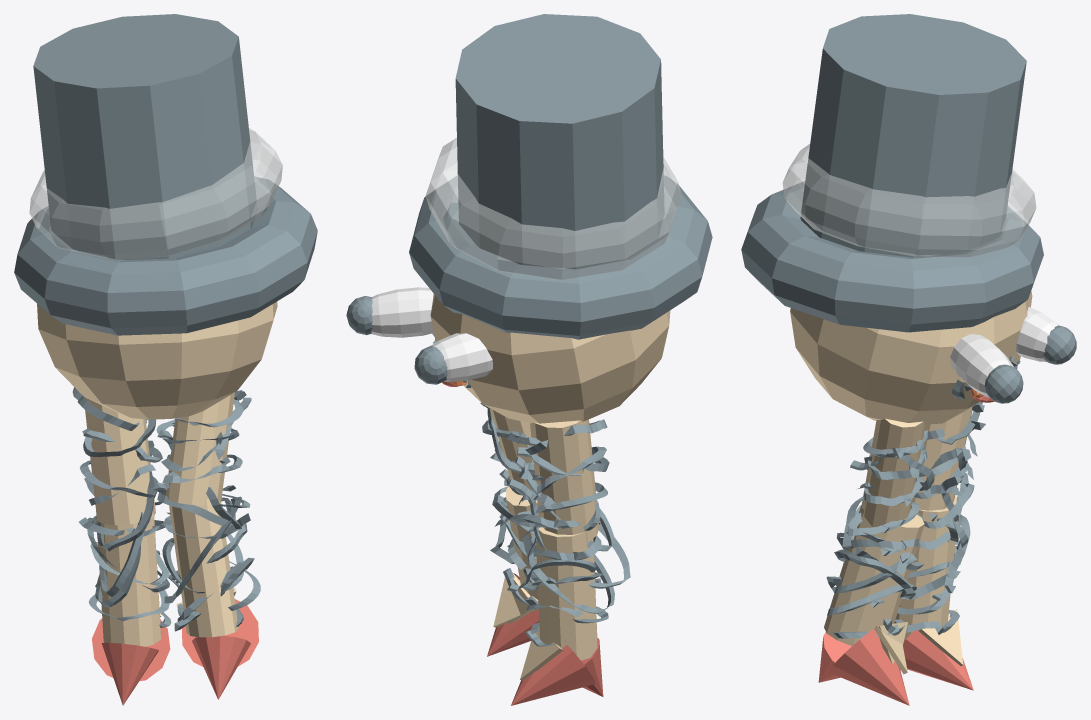
3 renders of one model, left to right at view 1: azimuth 30°, elevation 25°; view 2: azimuth 150°, elevation 25°; view 3: azimuth 270°, elevation 25°, orthographic.
Visible parts, largest first — view 1: group1615865381, group876499831, group1073953164, group534798460, group1897150102, group1571126825, group666944542, group1006952845, group1467747371, group991239869, group219298290, group1679140607 (+16 smaller); view 2: group1615865381, group876499831, group1073953164, group534798460, group666944542, group1571126825, group75353913, group219298290, group1379904751, group1006952845, group1421085037, group1679140607 (+15 smaller); view 3: group1615865381, group876499831, group1073953164, group534798460, group1897150102, group1006952845, group1679140607, group666944542, group75353913, group219298290, group1571126825, group1379904751 (+15 smaller).
Boxes of the visible parts, x1,y1,x2,y2 form: group1615865381: (33, 14, 256, 259); group876499831: (14, 177, 317, 335); group1073953164: (37, 301, 277, 419); group534798460: (29, 128, 282, 259); group1897150102: (169, 498, 238, 637); group1571126825: (84, 397, 155, 525); group666944542: (96, 511, 160, 646); group1006952845: (165, 392, 234, 505); group1467747371: (192, 635, 250, 699); group991239869: (101, 642, 158, 705); group219298290: (92, 618, 170, 681); group1679140607: (182, 599, 258, 666); group1615865381: (455, 14, 664, 269); group876499831: (409, 175, 712, 339); group1073953164: (430, 294, 670, 423); group534798460: (425, 138, 681, 280); group666944542: (536, 527, 597, 660); group1571126825: (530, 419, 599, 542); group75353913: (371, 287, 433, 337); group219298290: (511, 645, 595, 705); group1379904751: (431, 333, 492, 382); group1006952845: (489, 409, 535, 490); group1421085037: (522, 527, 614, 613); group1679140607: (487, 573, 539, 656); group1615865381: (800, 14, 1026, 256); group876499831: (741, 181, 1043, 332); group1073953164: (790, 290, 1032, 424); group534798460: (782, 144, 1036, 257); group1897150102: (824, 505, 924, 645); group1006952845: (861, 418, 925, 527); group1679140607: (828, 625, 909, 705); group666944542: (895, 496, 957, 640); group75353913: (950, 334, 1013, 397); group219298290: (903, 629, 973, 690); group1571126825: (912, 407, 972, 510); group1379904751: (1016, 307, 1058, 361).
Bounding box in the file's own units: 0.3354 × 0.7202 × 0.3395.
